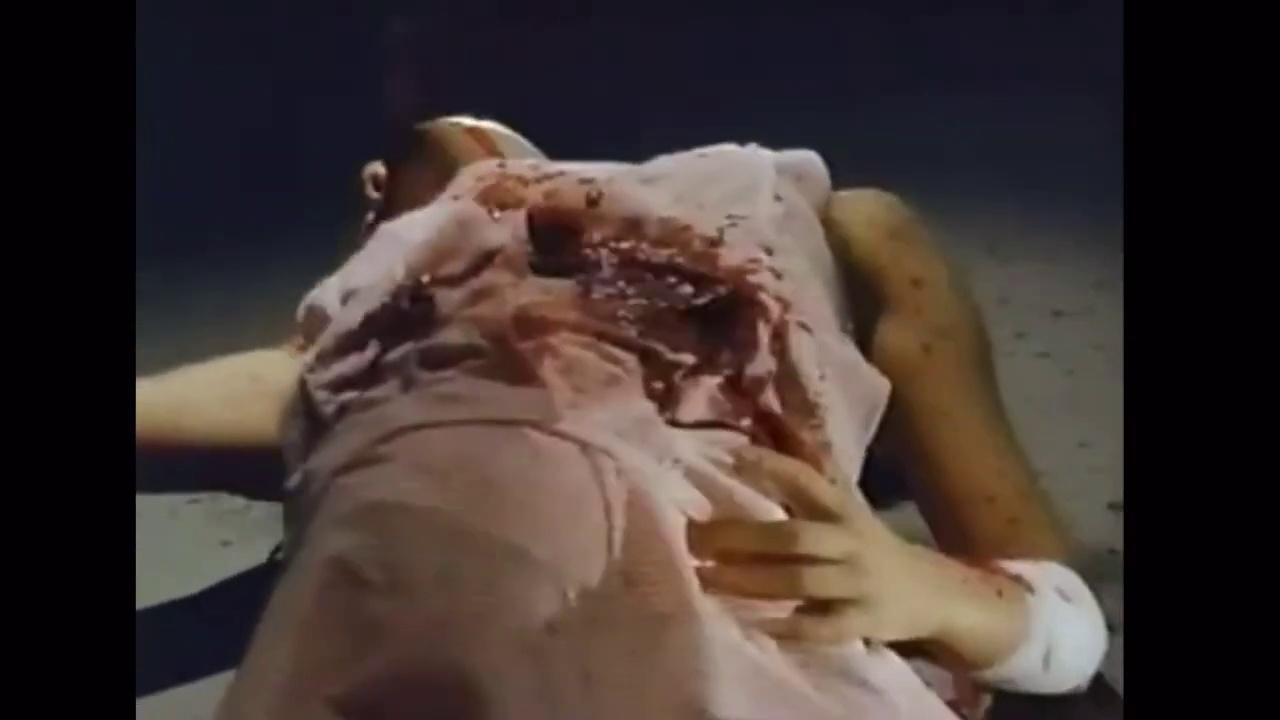Fire: (207, 115, 1122, 720)
